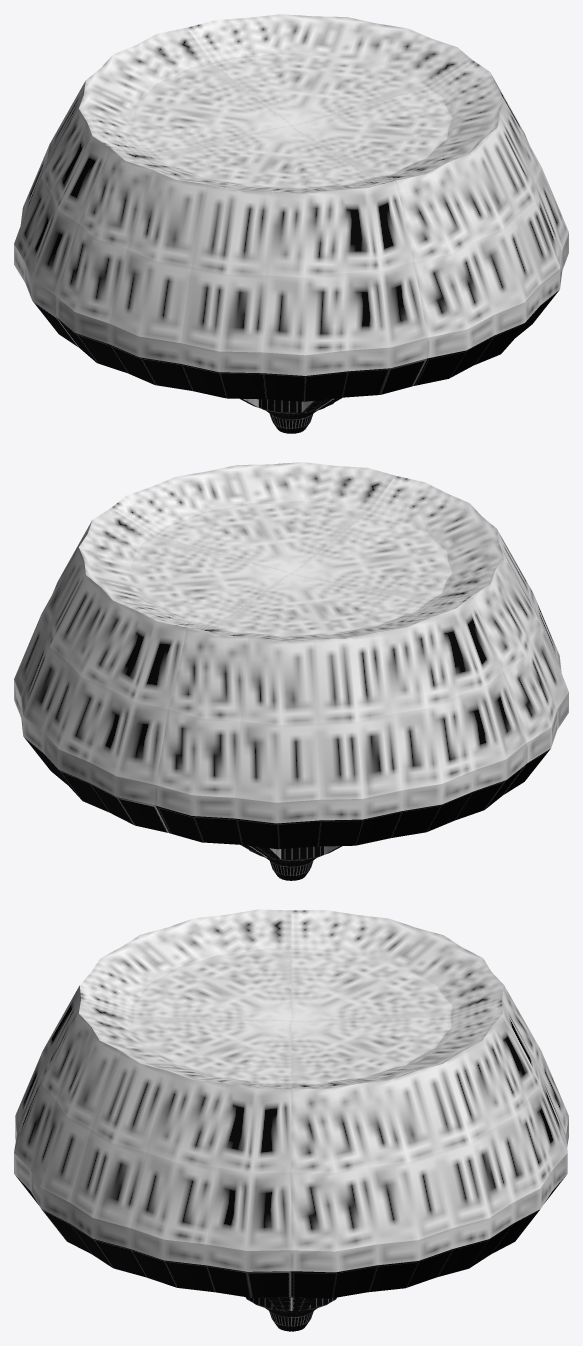
File: m_arena_top.fbx
3 views of the same model, one above another, from view 1: azimuth 30°, elevation 25°; view 2: azimuth 150°, elevation 25°; view 3: azimuth 270°, elevation 25° (orthographic).
Visible parts, largest first — view 1: pPipe9; view 2: pPipe9; view 3: pPipe9.
Boxes of the visible parts, x1,y1,x2,y2 form: pPipe9: (14, 14, 568, 433); pPipe9: (14, 462, 568, 880); pPipe9: (14, 909, 568, 1331).
Bounding box in the file's own units: 282 × 183 × 282.
Materials: 1 (1 with a texture image).
